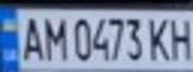0: (69, 14, 93, 62)
3: (124, 15, 148, 62)
4: (90, 14, 109, 62)
7: (106, 14, 127, 62)
A: (15, 12, 45, 62)
H: (166, 14, 193, 62)
K: (145, 14, 175, 62)
M: (39, 14, 69, 62)
